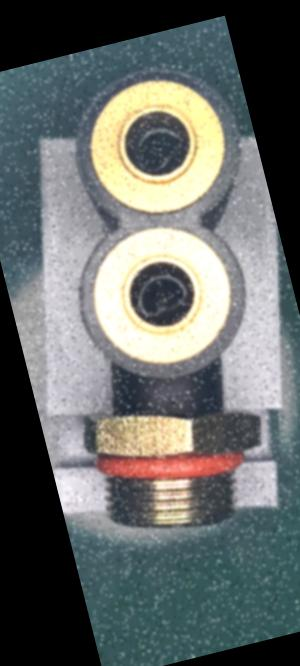off-centered: (127, 115, 194, 183), (131, 262, 201, 325)
